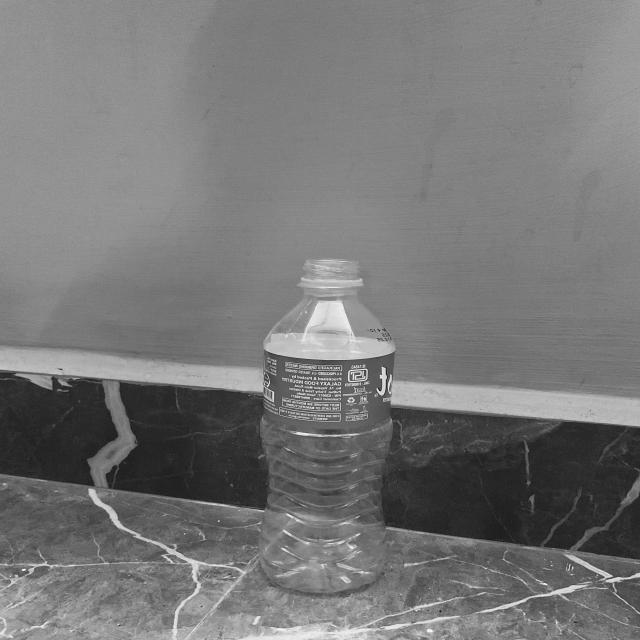open-cap: (298, 256, 364, 290)
